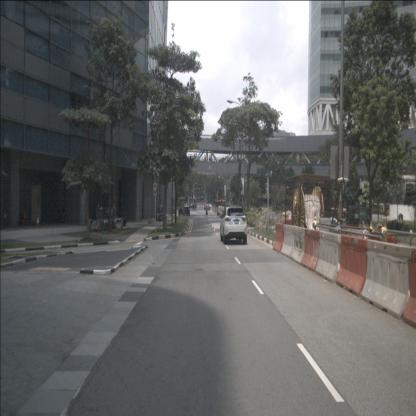human-pedestrian-adult: (217, 205, 220, 216), (205, 206, 208, 216)
movable_object-barrier: (362, 239, 412, 319), (336, 234, 369, 298), (315, 230, 342, 284), (402, 247, 416, 328), (300, 228, 320, 274), (291, 226, 306, 265), (280, 224, 297, 257), (272, 222, 284, 254)
movable_object-trafficcone: (22, 210, 28, 224), (86, 218, 92, 232), (108, 217, 113, 231), (96, 219, 101, 233), (35, 214, 40, 227), (120, 217, 125, 230), (156, 213, 159, 221)
vehicle-car: (220, 206, 247, 245), (178, 206, 190, 216), (204, 204, 210, 212)
